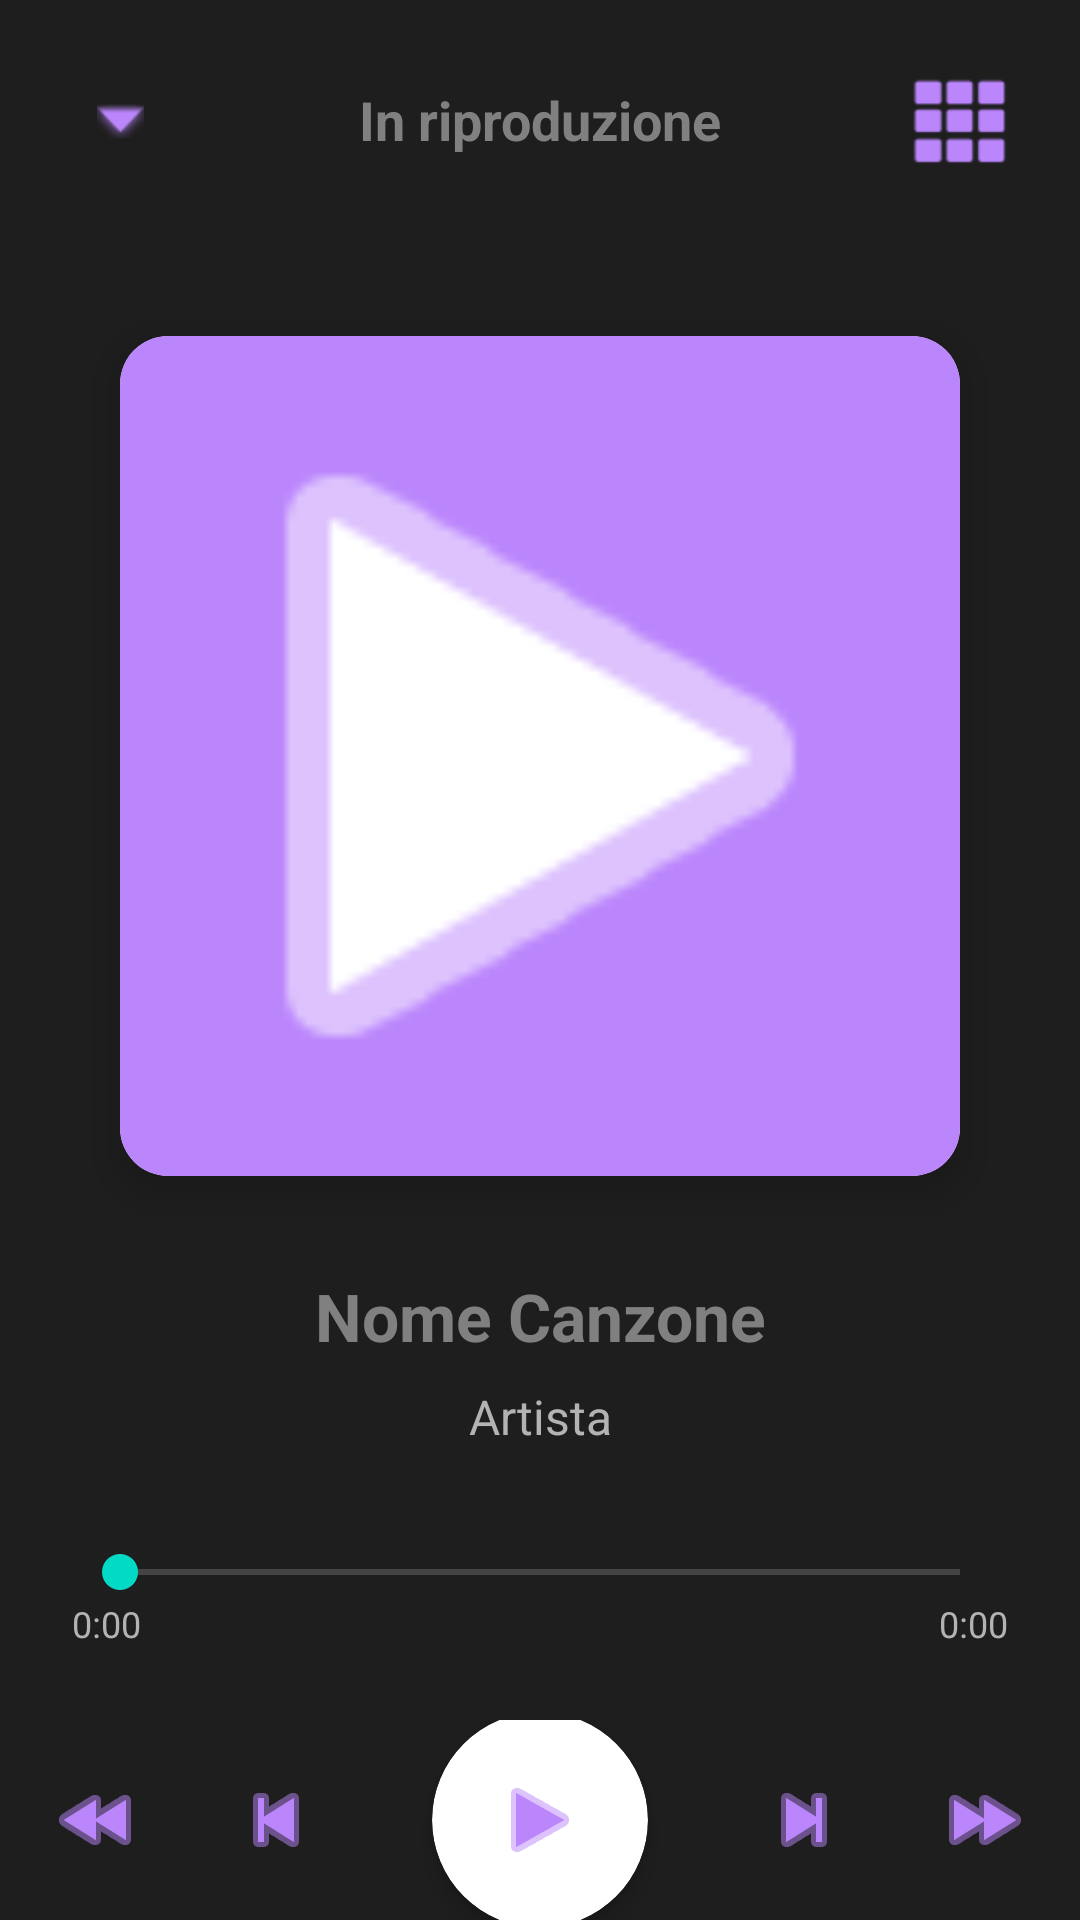

Where to tap for icons on this 1080px x 1920px app screen, as (x,y):
Avanti 10 secondi: (985,1820)
Canzone precedente: (276,1820)
Canzone successiva: (804,1820)
Chiudi player: (120,120)
Indietro 10 secondi: (95,1820)
Mostra coda: (959,121)
Play/Pausa: (540,1820)
